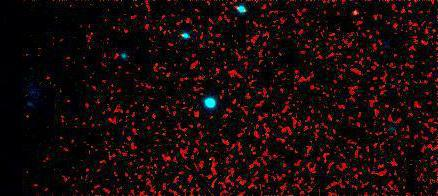star: (340, 0, 370, 28)
